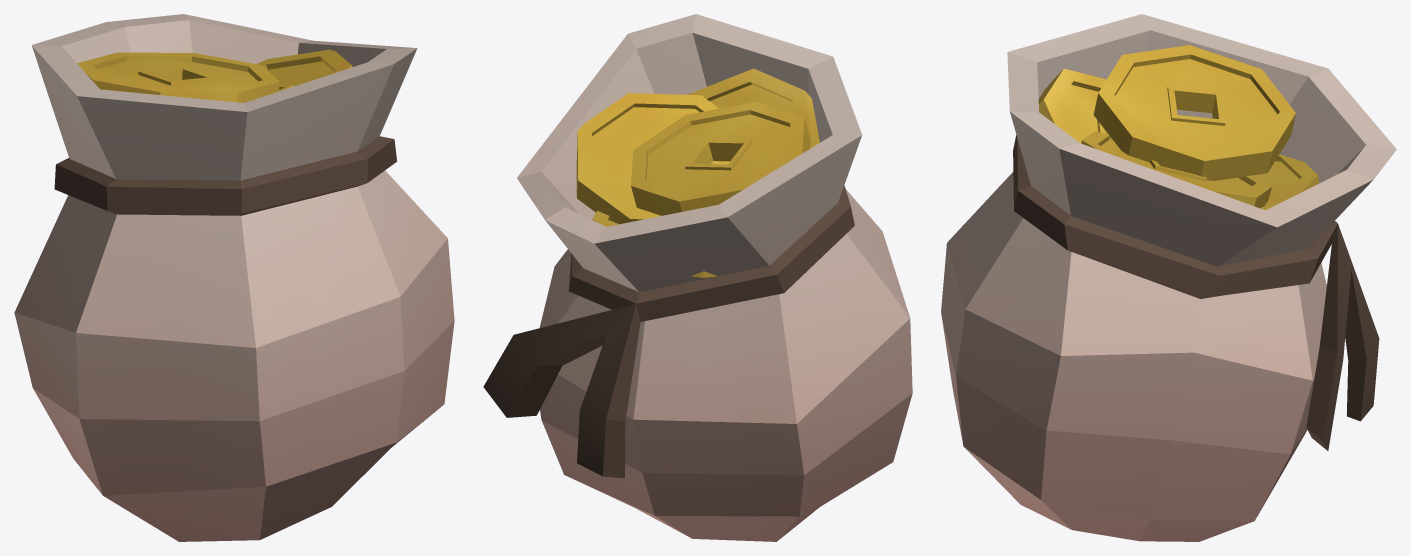
The model's file is Money_bag.fbx.
3 renders of one model, left to right at view 1: azimuth 30°, elevation 25°; view 2: azimuth 150°, elevation 25°; view 3: azimuth 270°, elevation 25°, orthographic. The views are drawn at different scales.
Visible parts, largest first — view 1: Money_bag; view 2: Money_bag; view 3: Money_bag.
Boxes of the visible parts, x1=… form: Money_bag: x1=14, y1=14, x2=454, y2=541; Money_bag: x1=483, y1=14, x2=912, y2=541; Money_bag: x1=941, y1=14, x2=1396, y2=541.
Size of the model in its own units: 0.5899 by 0.7543 by 0.6746.
Materials: 1 (1 with a texture image).
